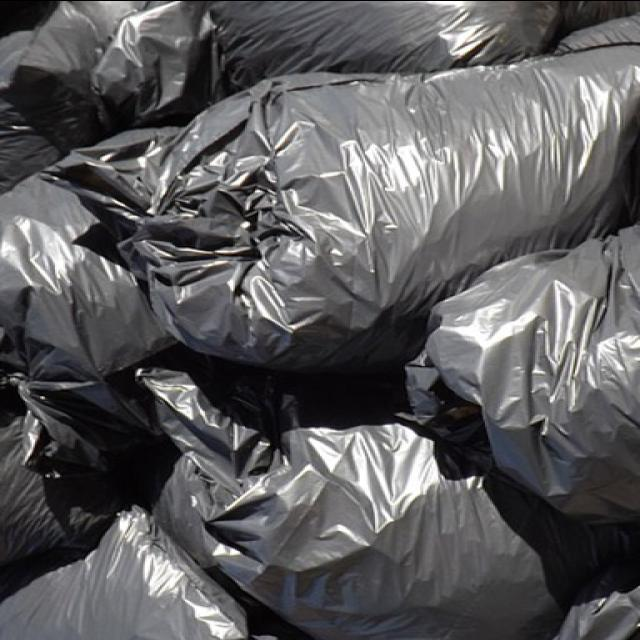Trashbag: (152, 86, 458, 363), (176, 430, 550, 631), (436, 235, 639, 502), (11, 131, 172, 395), (202, 4, 553, 94), (12, 3, 214, 140), (23, 518, 234, 640)
